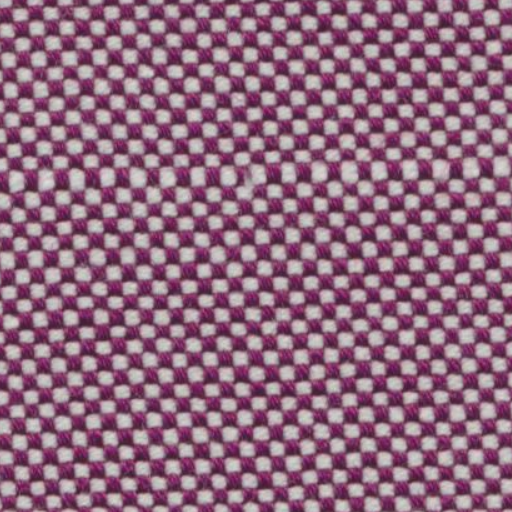TuoSha: (8, 132, 499, 224)
